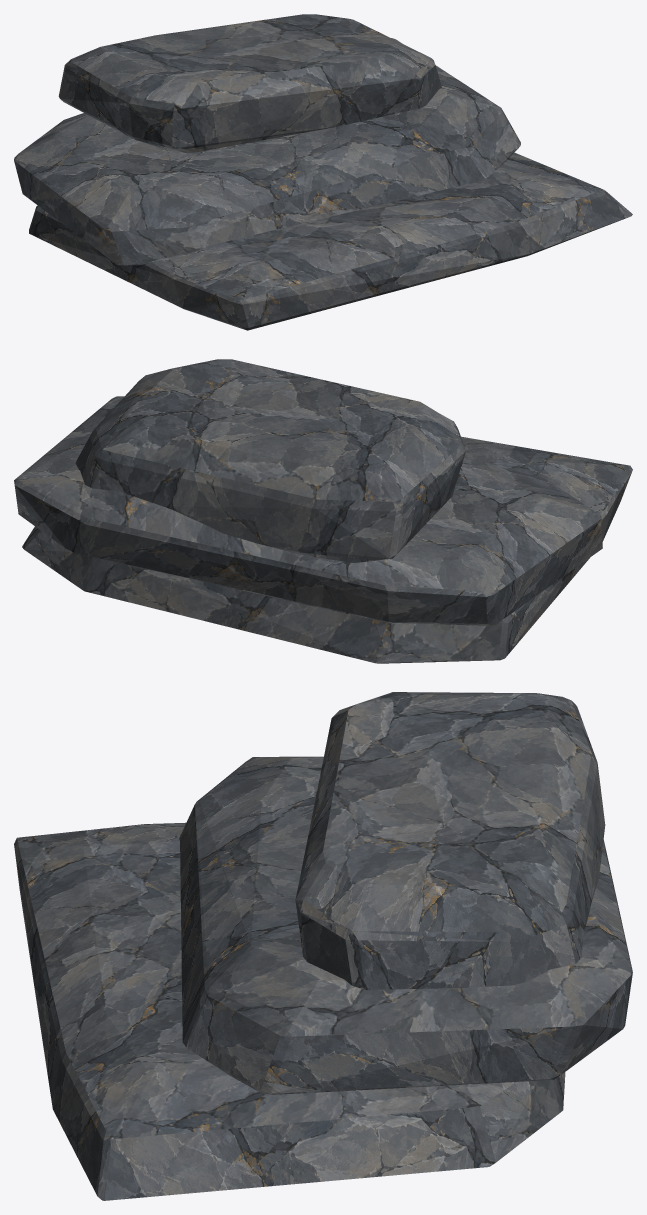
Rendered from Cave_R20_SteppedLedge.fbx.
The picture shows the model from 3 angles, top to bottom: view 1: azimuth 30°, elevation 25°; view 2: azimuth 150°, elevation 25°; view 3: azimuth 270°, elevation 25°; orthographic projection. The views are drawn at different scales.
Parts seen in each view (by area): view 1: Cave_R20_SteppedLedge_LOD0; view 2: Cave_R20_SteppedLedge_LOD0; view 3: Cave_R20_SteppedLedge_LOD0.
Boxes of the visible parts, left/top/right/bottom form: Cave_R20_SteppedLedge_LOD0: left=14, top=14, right=632, bottom=330; Cave_R20_SteppedLedge_LOD0: left=14, top=359, right=632, bottom=663; Cave_R20_SteppedLedge_LOD0: left=14, top=692, right=632, bottom=1200.
Size of what is drawn, in the model's own units: 3.74 by 1.27 by 2.82.
1 material, 1 textured.
